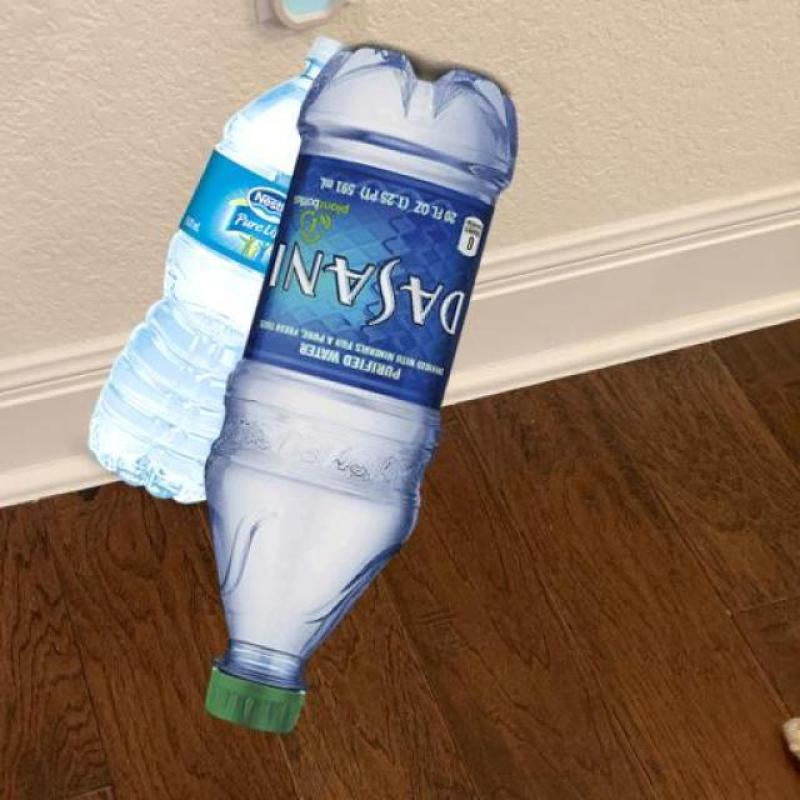botella: (204, 46, 524, 740), (82, 36, 362, 503)
